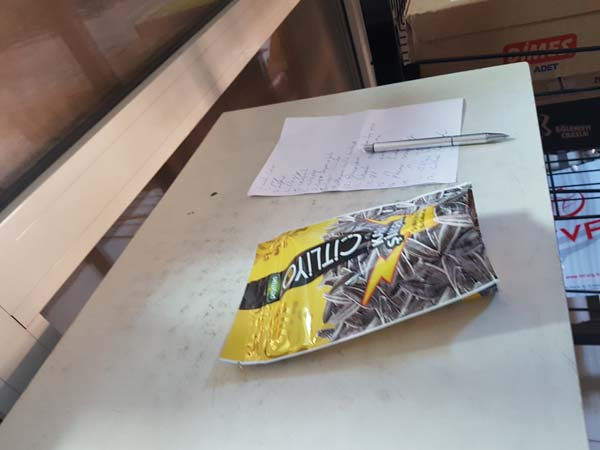citliyorkarasisimsek: (213, 177, 507, 370)
